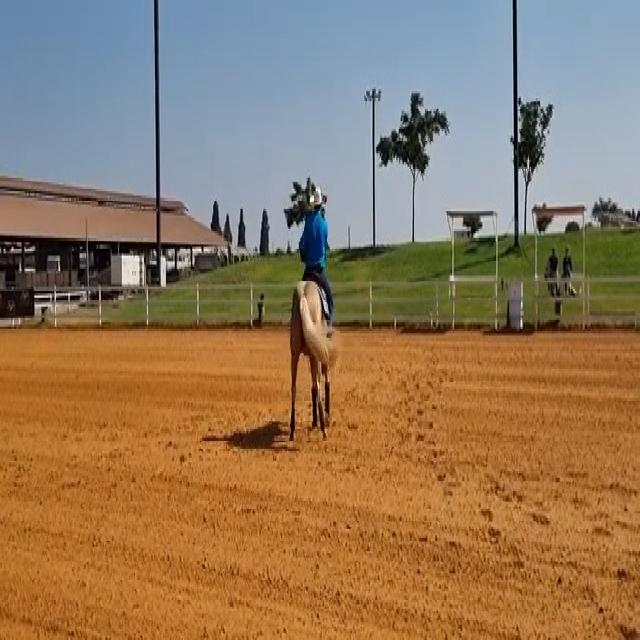horse: (286, 274, 338, 442)
